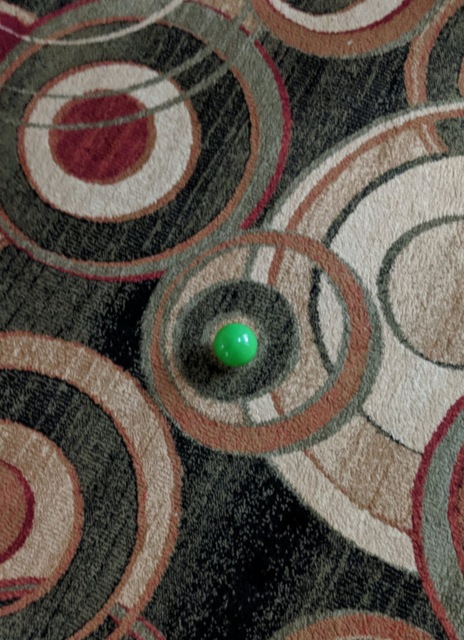ball: (214, 325, 259, 367)
